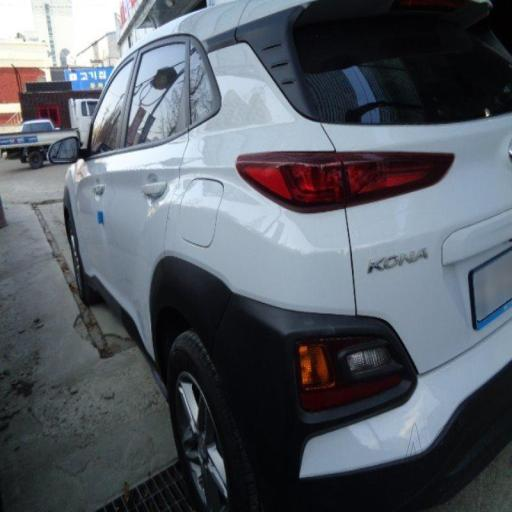normal: (80, 52, 512, 452)
